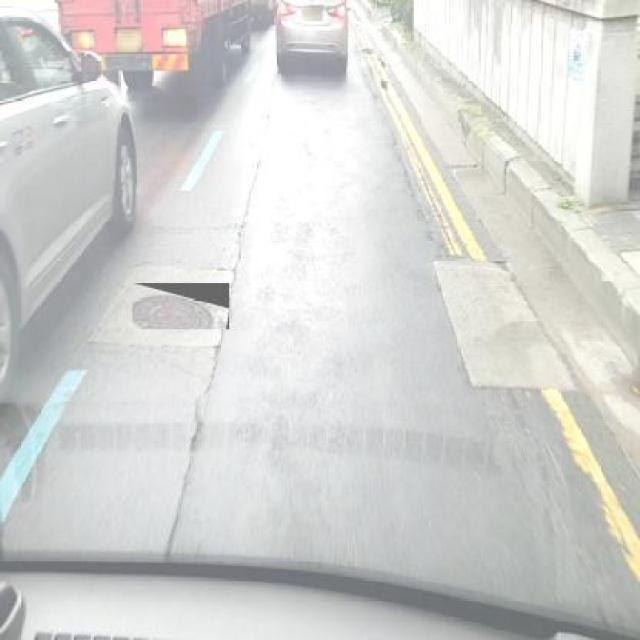Manhole: (133, 283, 230, 329)
Pothole: (492, 257, 514, 277), (414, 206, 432, 224), (377, 76, 390, 96), (422, 227, 436, 241), (376, 57, 388, 68), (360, 45, 372, 56)
